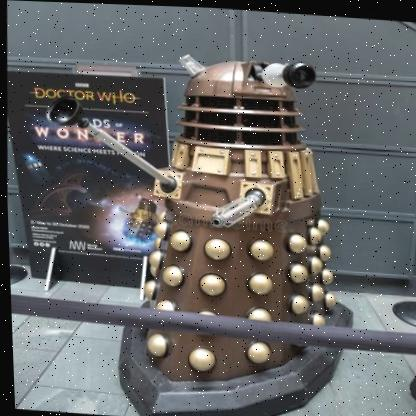dalek: (28, 16, 375, 416)
